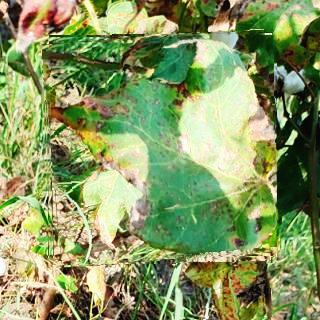blight: (44, 32, 277, 265), (176, 255, 272, 320)
